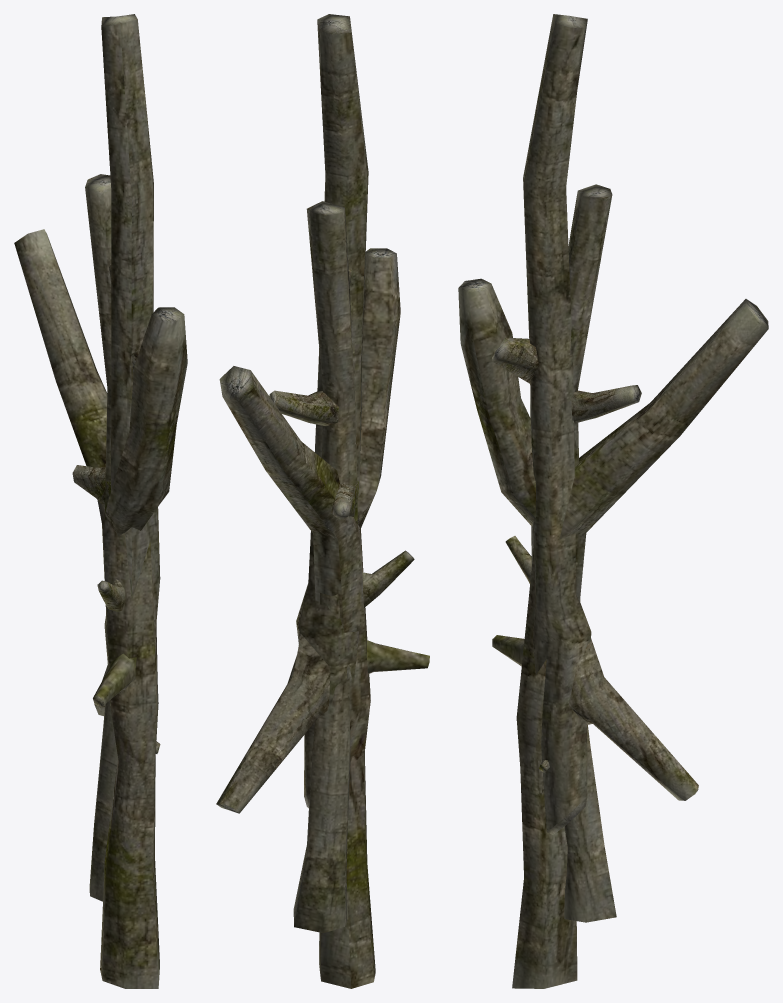
Rendered from sticks.fbx.
3 views of the same model, side by side, from view 1: azimuth 30°, elevation 25°; view 2: azimuth 150°, elevation 25°; view 3: azimuth 270°, elevation 25° (orthographic).
Visible parts, largest first — view 1: defaultMaterial.003, defaultMaterial.001, defaultMaterial.002; view 2: defaultMaterial.003, defaultMaterial.001, defaultMaterial.002; view 3: defaultMaterial.001, defaultMaterial.003, defaultMaterial.002.
Part boxes in pixels (<box>): defaultMaterial.003: <box>14,229,187,988</box>; defaultMaterial.001: <box>72,14,160,715</box>; defaultMaterial.002: <box>85,174,160,901</box>; defaultMaterial.003: <box>219,248,400,988</box>; defaultMaterial.001: <box>216,14,429,813</box>; defaultMaterial.002: <box>269,201,414,933</box>; defaultMaterial.001: <box>492,14,698,834</box>; defaultMaterial.003: <box>458,278,768,988</box>; defaultMaterial.002: <box>505,184,641,922</box>.
Bounding box in the file's own units: 15.07 × 120 × 34.79.
